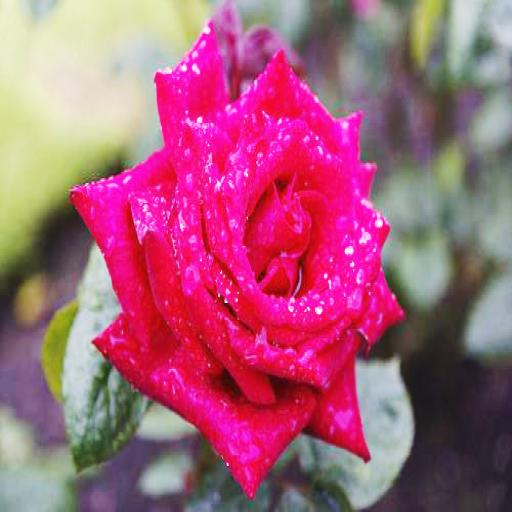rose: (74, 24, 402, 494)
